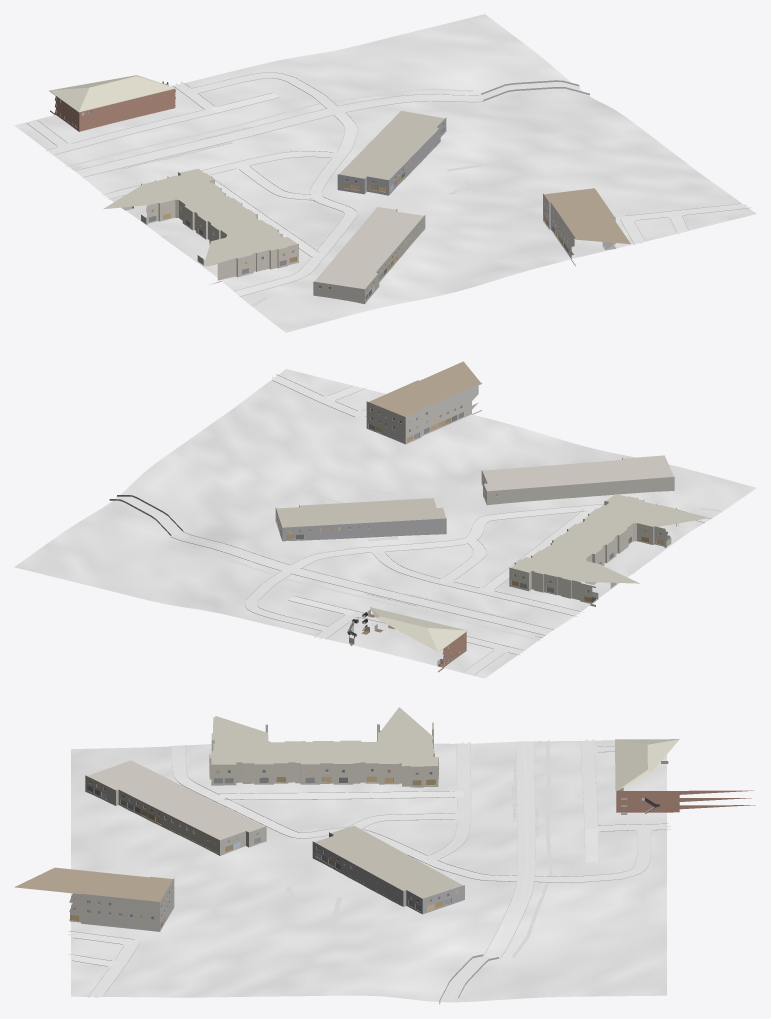
3 renders of one model, top to bottom at view 1: azimuth 30°, elevation 25°; view 2: azimuth 150°, elevation 25°; view 3: azimuth 270°, elevation 25°, orthographic. The views are drawn at different scales.
Visible parts, largest first — view 1: ground, roof_flat, concrete, wall_com, asphalt, curb, roof, wall, walk, detail; view 2: ground, roof_flat, wall_com, concrete, asphalt, curb, roof, walk, glass_lit, detail, glass; view 3: ground, roof_flat, wall_com, concrete, asphalt, curb, roof, wall, walk, glass_lit, glass, detail.
Boxes of the visible parts, x1,y1,x2,y2 form: ground: (14,14,756,332); roof_flat: (103,111,630,289); concrete: (27,72,748,296); wall_com: (141,117,615,304); asphalt: (75,82,587,176); curb: (27,72,750,296); roof: (49,75,175,111); wall: (50,89,175,131); walk: (65,88,484,306); detail: (49,81,616,300); ground: (14,369,756,678); roof_flat: (276,361,707,587); wall_com: (275,382,676,606); concrete: (245,374,710,674); asphalt: (109,496,553,634); curb: (171,374,710,674); roof: (370,607,467,652); walk: (165,489,721,640); glass_lit: (276,411,663,664); detail: (276,408,683,664); glass: (278,405,661,661); ground: (71,740,666,1002); roof_flat: (14,707,462,901); wall_com: (69,724,464,931); concrete: (67,739,671,998); asphalt: (440,741,535,1001); curb: (69,741,668,997); roof: (615,739,679,790); wall: (616,790,755,812); walk: (144,740,552,957); glass_lit: (70,769,457,923); glass: (87,769,449,928); detail: (72,764,659,929).
Size of the model in its own units: 270 by 20.06 by 312.
